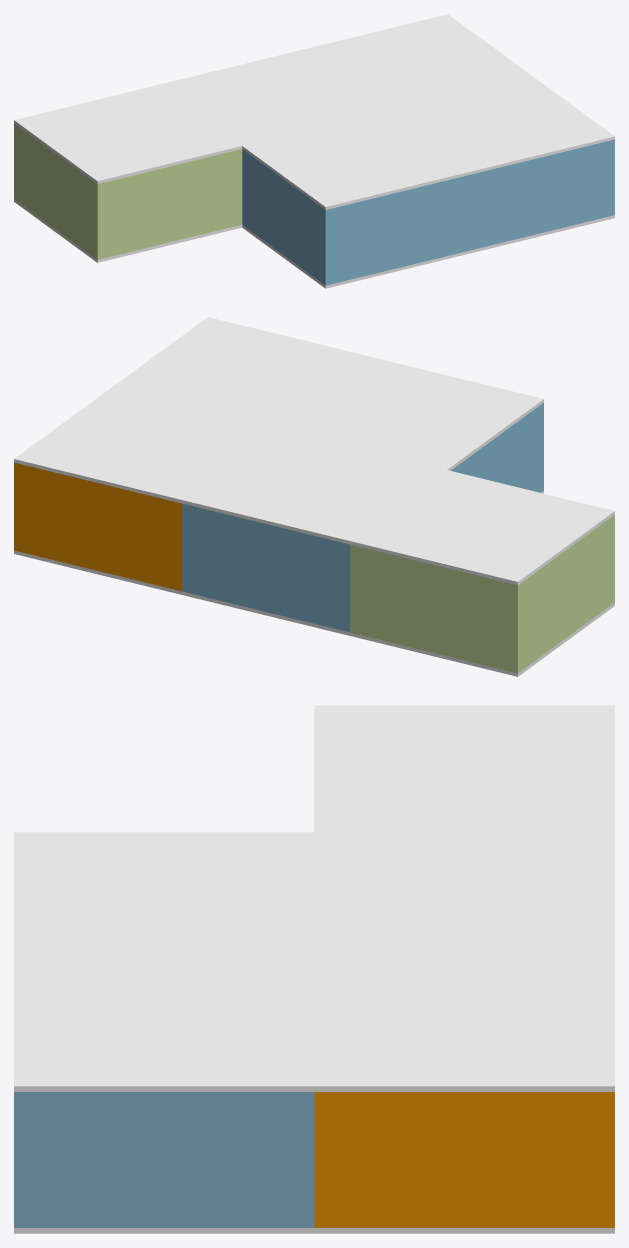
File: FigurarEnviroment.glb
3 views of the same model, one above another, from view 1: azimuth 30°, elevation 25°; view 2: azimuth 150°, elevation 25°; view 3: azimuth 270°, elevation 25° (orthographic). The views are drawn at different scales.
Parts seen in each view (by area): view 1: Room_2_Roof, Room_4_Walls, Room_2_Walls.004, Room_4_Roof, Room_1_Roof, Room_3_Roof, Room_1_Wall, Room_4_Floor, Room_2_Floor, Room_1_Floor; view 2: Room_2_Roof, Room_4_Walls, Room_2_Walls.004, Room_4_Roof, Room_3_Roof, Room_1_Roof, Room_3_Walls, Room_4_Floor, Room_2_Floor, Room_3_Floor; view 3: Room_2_Roof, Room_1_Wall, Room_3_Walls, Room_1_Roof, Room_3_Roof, Room_4_Roof, Room_1_Floor, Room_3_Floor.
Part boxes in pixels (x1,y1,x2,y2): Room_2_Roof: [159, 49, 470, 209]; Room_4_Walls: [14, 123, 242, 259]; Room_2_Walls.004: [242, 149, 470, 285]; Room_4_Roof: [14, 85, 242, 184]; Room_1_Roof: [387, 75, 614, 174]; Room_3_Roof: [303, 14, 530, 110]; Room_1_Wall: [470, 139, 614, 250]; Room_4_Floor: [14, 199, 242, 262]; Room_2_Floor: [242, 225, 470, 288]; Room_1_Floor: [470, 215, 614, 253]; Room_2_Roof: [182, 358, 543, 544]; Room_4_Walls: [350, 515, 614, 673]; Room_2_Walls.004: [182, 403, 543, 632]; Room_4_Roof: [350, 470, 614, 585]; Room_3_Roof: [14, 388, 278, 503]; Room_1_Roof: [111, 317, 375, 428]; Room_3_Walls: [14, 462, 181, 591]; Room_4_Floor: [350, 602, 614, 676]; Room_2_Floor: [182, 490, 543, 635]; Room_3_Floor: [14, 550, 181, 594]; Room_2_Roof: [14, 832, 614, 959]; Room_1_Wall: [14, 1092, 314, 1227]; Room_3_Walls: [314, 1092, 614, 1227]; Room_1_Roof: [14, 959, 314, 1091]; Room_3_Roof: [314, 959, 614, 1091]; Room_4_Roof: [314, 705, 614, 832]; Room_1_Floor: [14, 1228, 314, 1233]; Room_3_Floor: [314, 1228, 614, 1233].
Size of what is drawn, in the model's own units: 15 by 2.7 by 10.
Materials: 15 (8 with a texture image).
